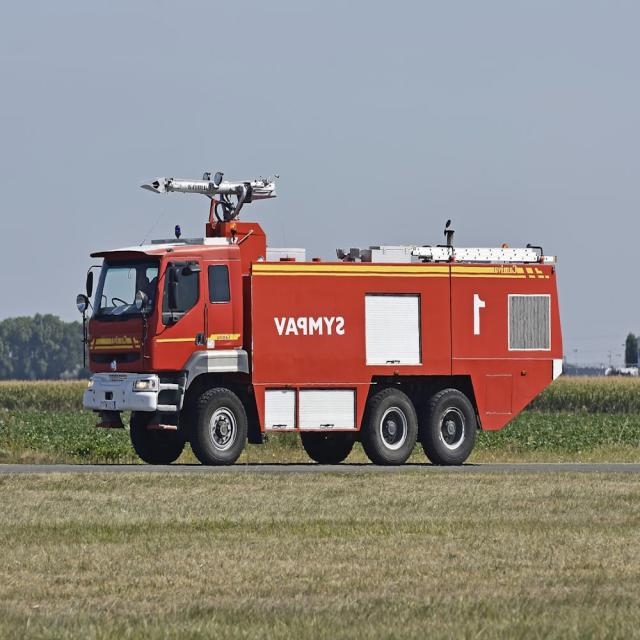emergency: (76, 171, 562, 465)
